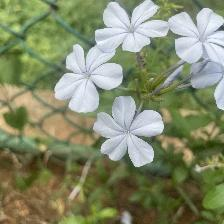chitrak: (52, 47, 124, 118), (93, 98, 161, 166), (95, 1, 171, 53), (174, 9, 224, 65)
